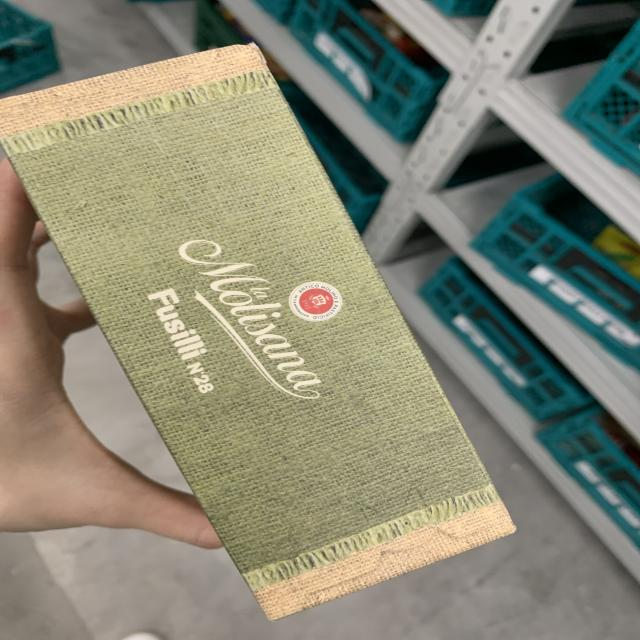object_name: (7, 71, 509, 600)
